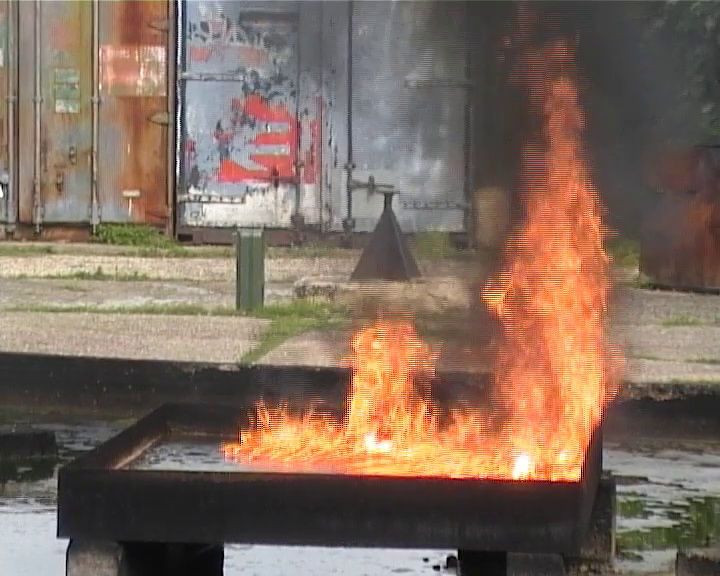fire: (225, 79, 611, 478)
